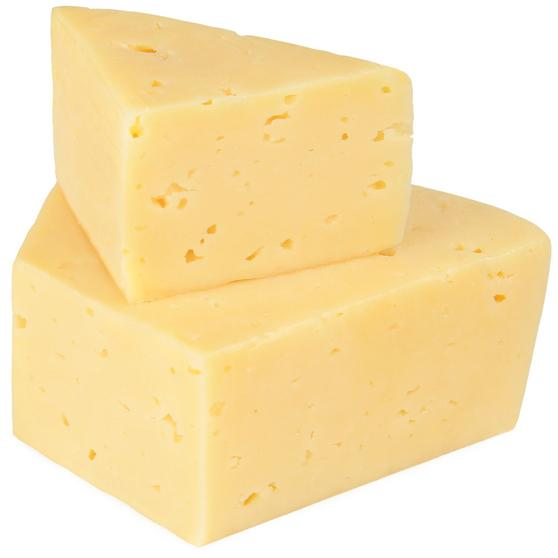cheese: (54, 3, 412, 314)
